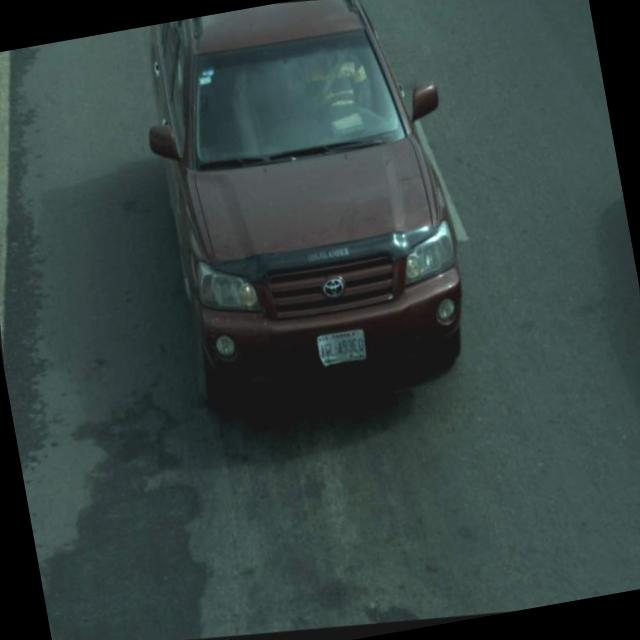person_with_seatbelt: (290, 36, 392, 150)
